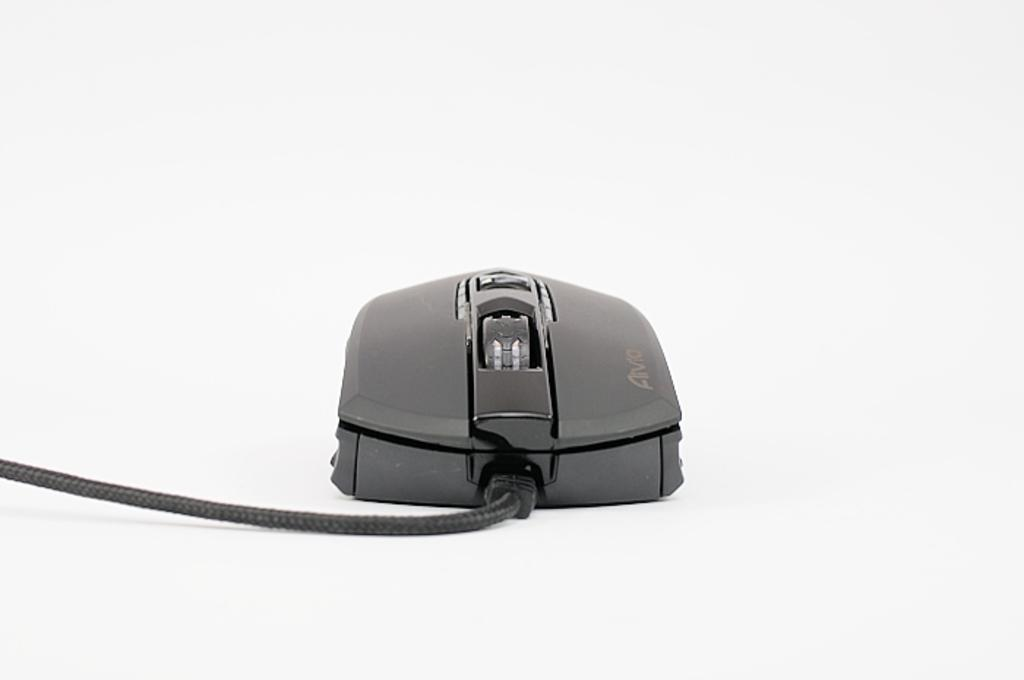Computer-mouse: (326, 254, 683, 506)
